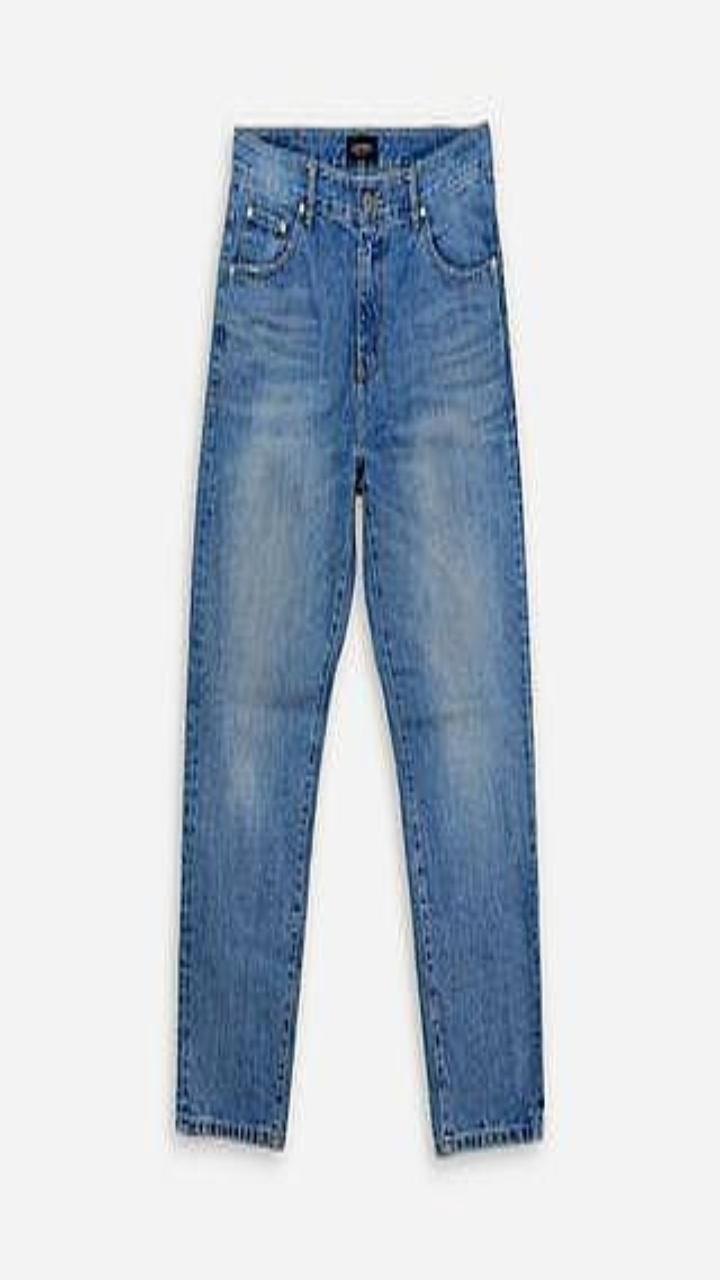Jeans: (177, 124, 542, 1152)
